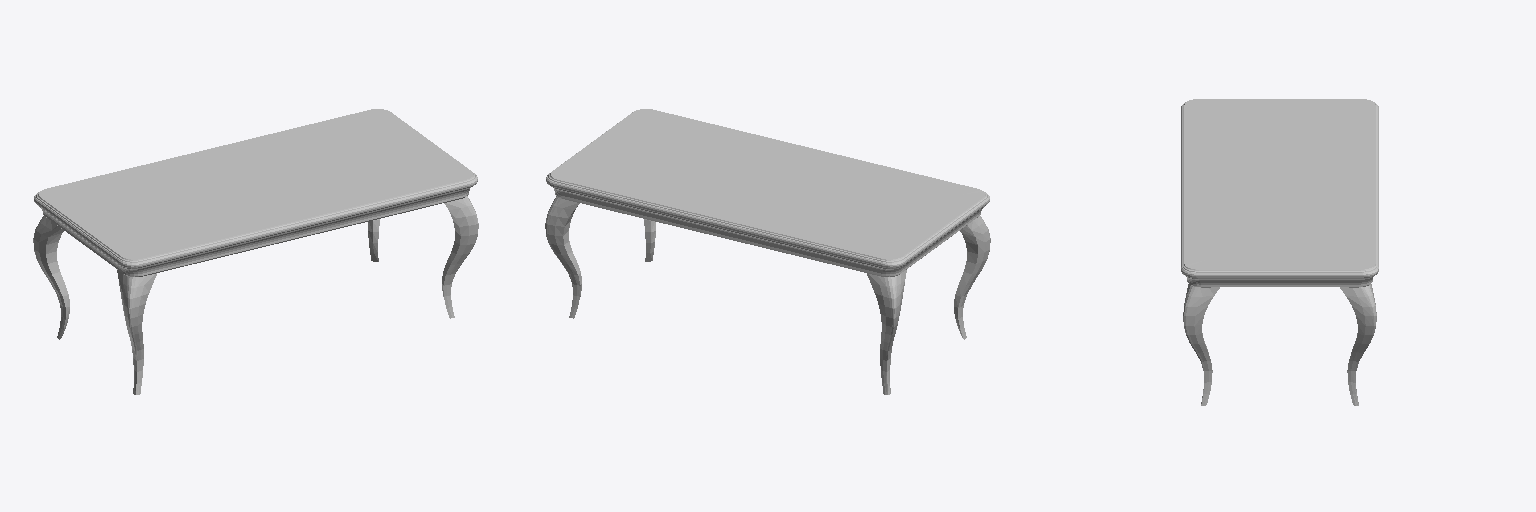
The model's file is coffeetable3.obj.
The picture shows the model from 3 angles: view 1: azimuth 30°, elevation 25°; view 2: azimuth 150°, elevation 25°; view 3: azimuth 270°, elevation 25°; orthographic projection.
Visible parts, largest first — view 1: coffetable; view 2: coffetable; view 3: coffetable.
Boxes of the visible parts, x1,y1,x2,y2 form: coffetable: [33, 109, 478, 394]; coffetable: [545, 109, 990, 394]; coffetable: [1181, 99, 1378, 405].
Size of the model in its own units: 16.29 by 6.26 by 7.85.